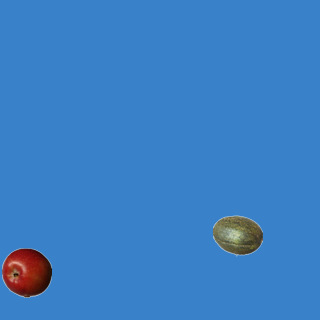Apple Braeburn: (1, 247, 51, 297)
Melon Piel de Sapo: (212, 210, 262, 260)
